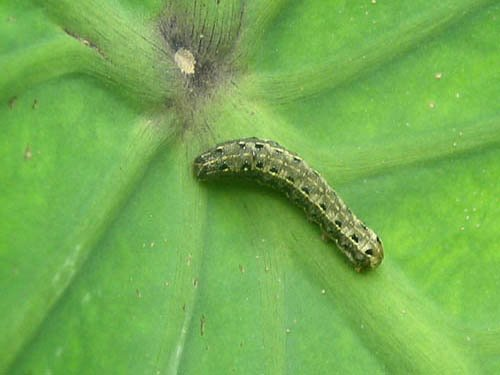Armyworm: (193, 127, 403, 281)
